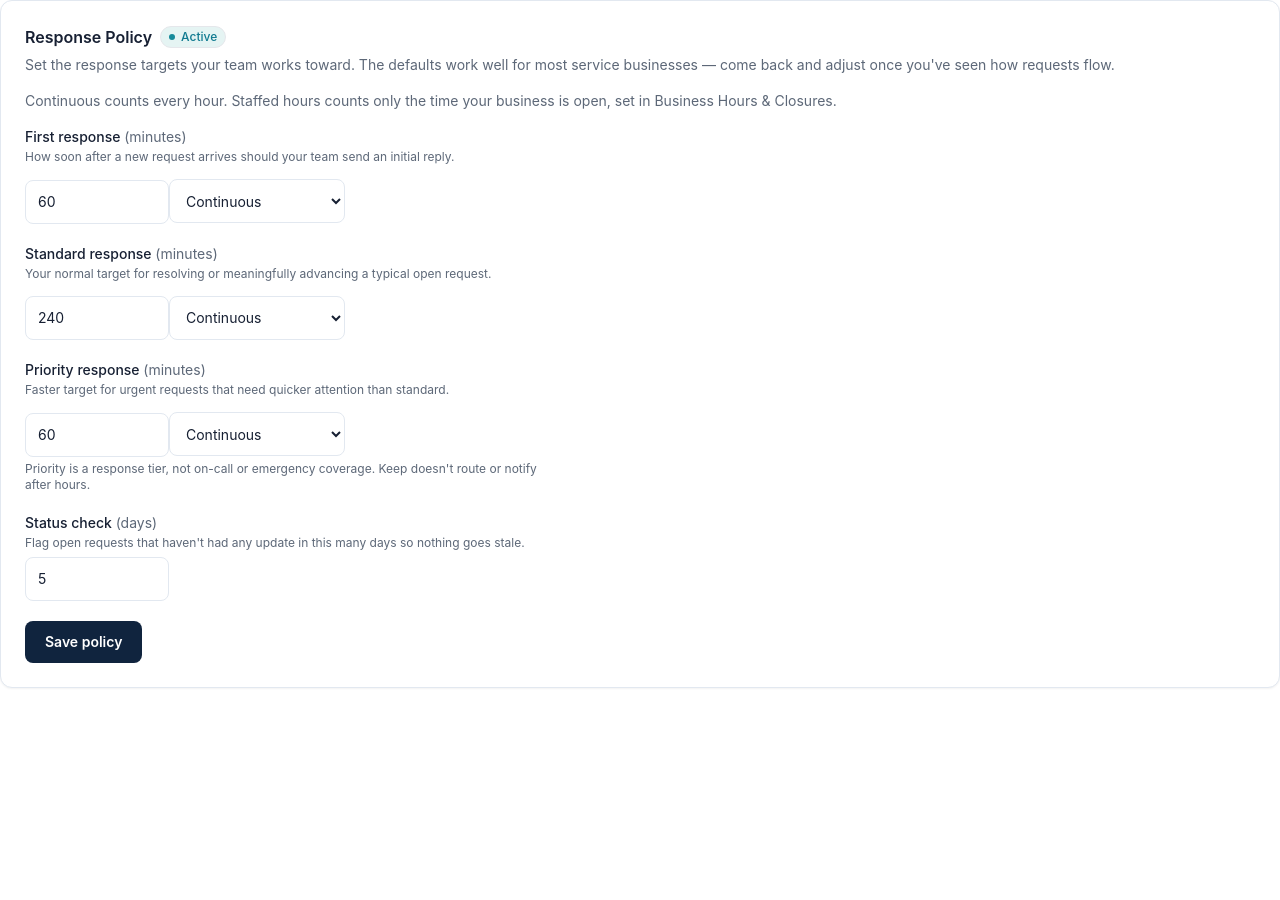
Scenario: PolicySection timing bases (GAP-100 6c) › maps 422 KeepResponsePolicy.StaffedTimingRequiresWeeklyInterval to friendly copy, never the raw API message
Expected: the button "Save policy" is shown, 25,620 -> 142,662
Select "Staffed hours" in the dropdown named "First response timing" at (257, 201), box 169,179 -> 345,223
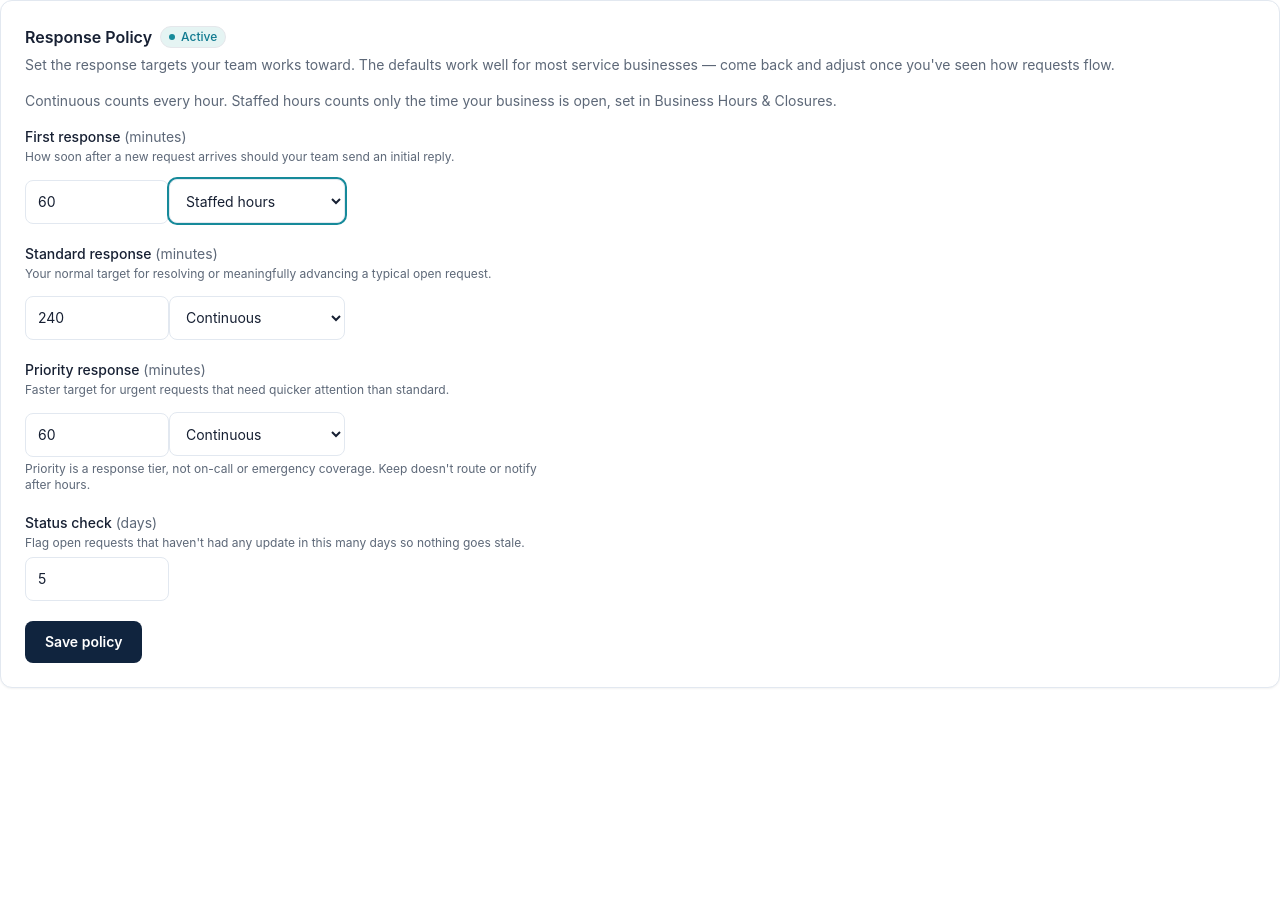
Click the button "Save policy".
click(84, 642)  # box 25,620 -> 142,662
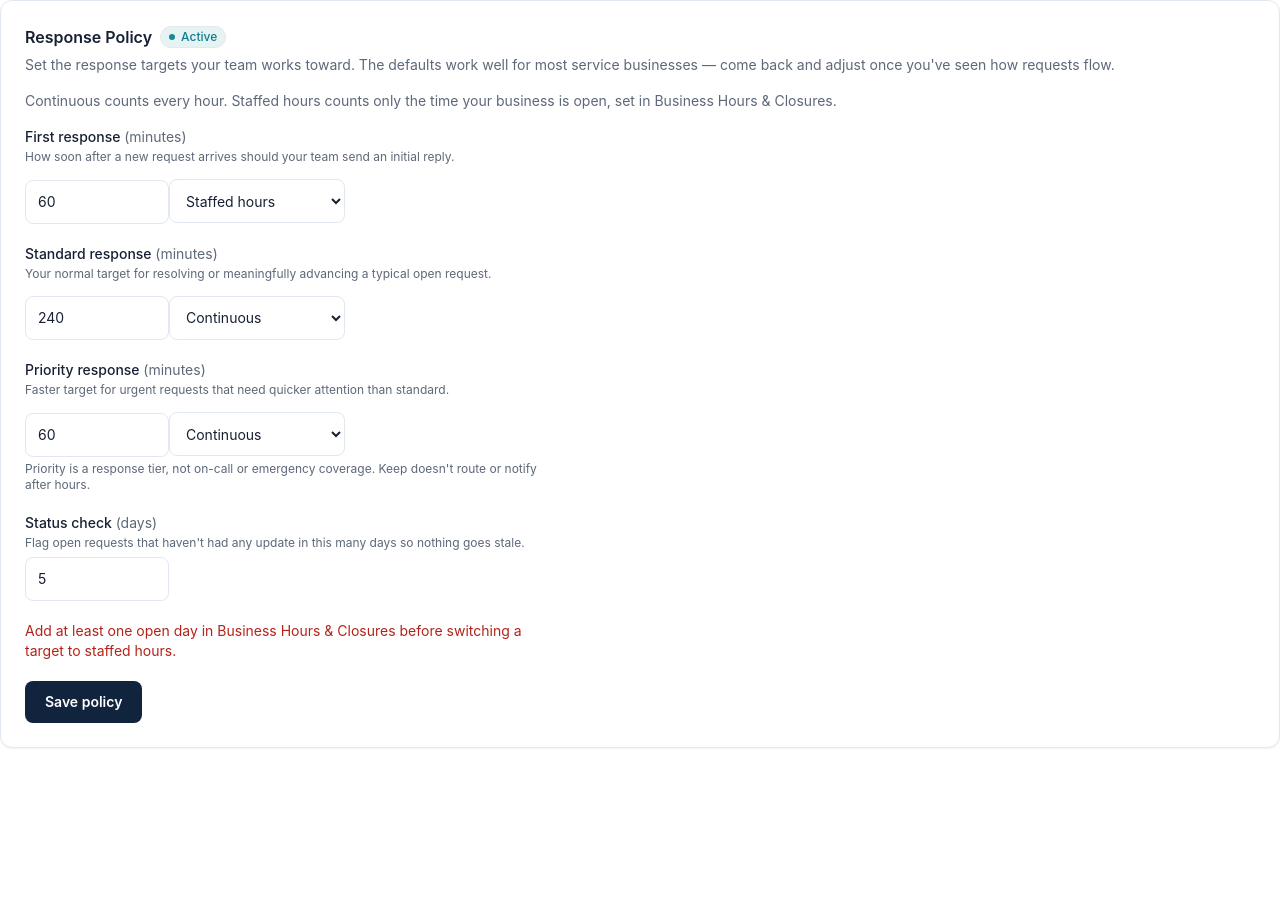
Result: the text "Add at least one open day in Business Hours & Closures before switching a target to staffed hours." is shown at 25,622 -> 522,658
